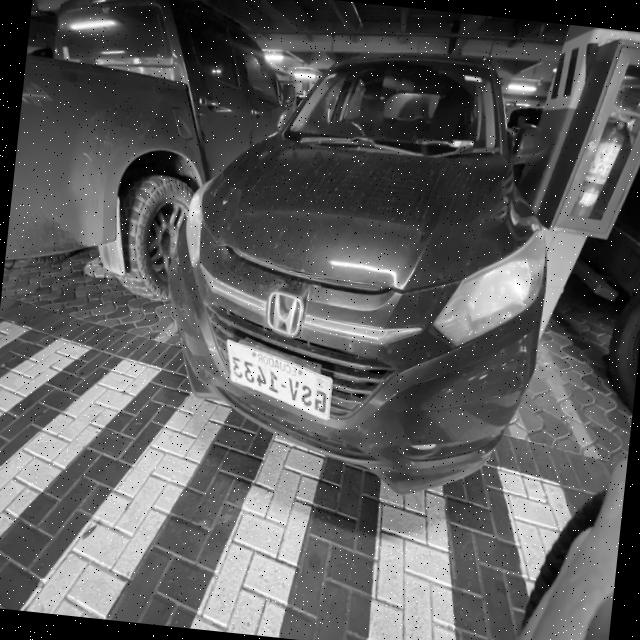Placa: (226, 340, 331, 419)
